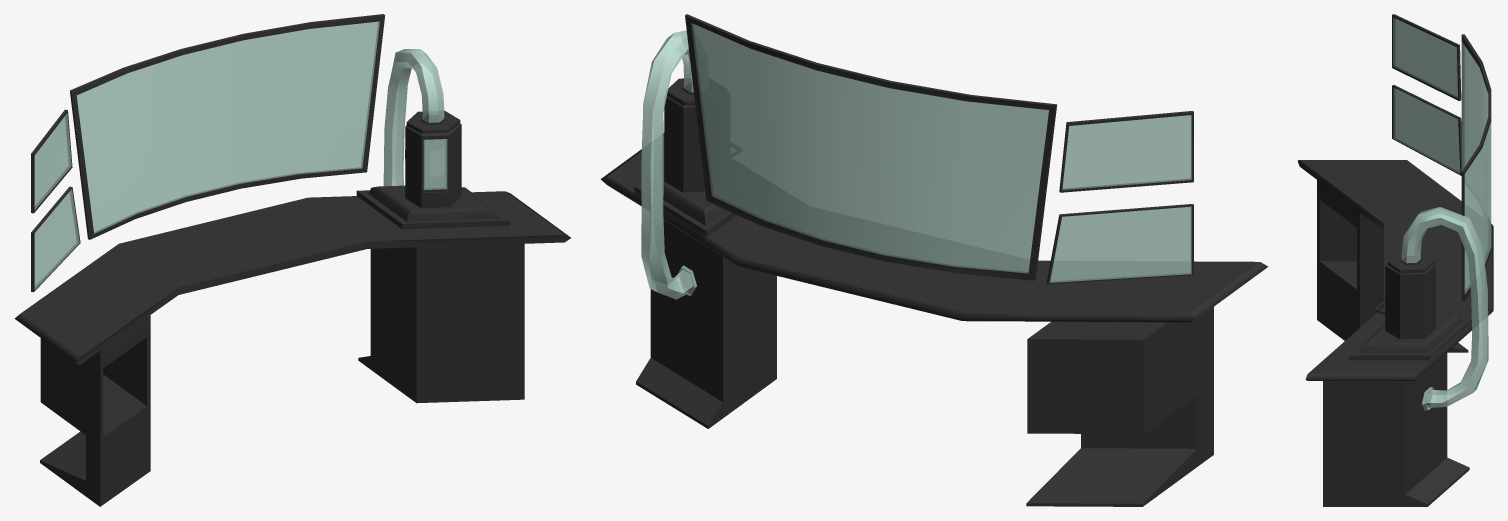
Rendered from Archive_Computer.fbx.
3 views of the same model, side by side, from view 1: azimuth 30°, elevation 25°; view 2: azimuth 150°, elevation 25°; view 3: azimuth 270°, elevation 25° (orthographic). The views are drawn at different scales.
Visible parts, largest first — view 1: pCube1, pCube4, pCylinder2, pCube6, pCube5, pCube2, pCylinder1, pCube3; view 2: pCube1, pCube4, pCube6, pCube5, pCylinder2, pCylinder1, pCube2; view 3: pCube1, pCube4, pCylinder2, pCube6, pCube5, pCylinder1, pCube2.
Part boxes in pixels (bbox=[...]): pCube1: bbox=[14, 187, 570, 506]; pCube4: bbox=[70, 14, 384, 239]; pCylinder2: bbox=[383, 49, 460, 186]; pCube6: bbox=[31, 186, 80, 292]; pCube5: bbox=[31, 109, 72, 213]; pCube2: bbox=[368, 185, 497, 221]; pCylinder1: bbox=[405, 123, 461, 207]; pCube3: bbox=[421, 132, 449, 208]; pCube1: bbox=[600, 133, 1268, 506]; pCube4: bbox=[685, 14, 1057, 280]; pCube6: bbox=[1046, 204, 1193, 284]; pCube5: bbox=[1059, 111, 1193, 192]; pCylinder2: bbox=[641, 30, 696, 299]; pCylinder1: bbox=[664, 96, 705, 192]; pCube2: bbox=[663, 167, 726, 225]; pCube1: bbox=[1297, 160, 1493, 506]; pCube4: bbox=[1461, 34, 1491, 300]; pCylinder2: bbox=[1388, 207, 1488, 410]; pCube6: bbox=[1392, 85, 1461, 175]; pCube5: bbox=[1392, 14, 1461, 100]; pCylinder1: bbox=[1385, 263, 1435, 339]; pCube2: bbox=[1358, 316, 1462, 352].
Size of the model in its own units: 3.1 by 2.03 by 1.17.
